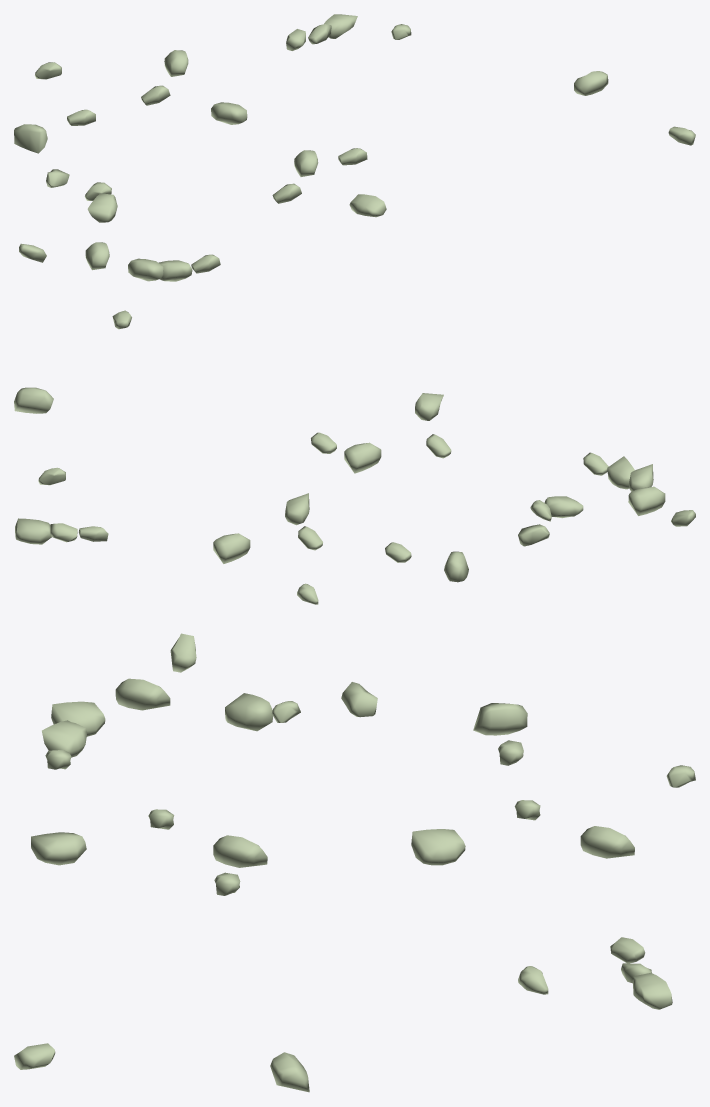
Rendered from Floor_Rock_Pile_03D_Lod0.fbx.
3 renders of one model, top to bottom at view 1: azimuth 30°, elevation 25°; view 2: azimuth 150°, elevation 25°; view 3: azimuth 270°, elevation 25°, orthographic. The views are drawn at different scales.
Visible parts, largest first — view 1: Floor_Rock_Pile_03D_Lod0; view 2: Floor_Rock_Pile_03D_Lod0; view 3: Floor_Rock_Pile_03D_Lod0.
Boxes of the visible parts, x1,y1,x2,y2 form: Floor_Rock_Pile_03D_Lod0: [14, 14, 695, 281]; Floor_Rock_Pile_03D_Lod0: [14, 310, 695, 604]; Floor_Rock_Pile_03D_Lod0: [14, 633, 695, 1092].
Size of the model in its own units: 703 by 47.21 by 468.
